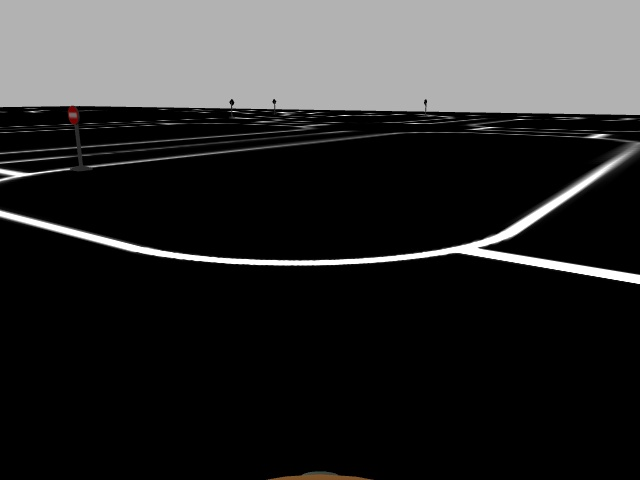prohibited: (66, 105, 80, 126)
